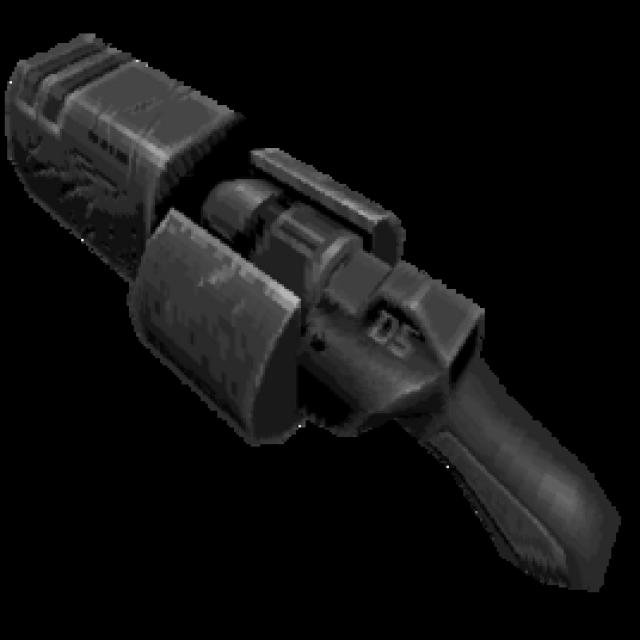Weapon: (5, 33, 611, 583)
